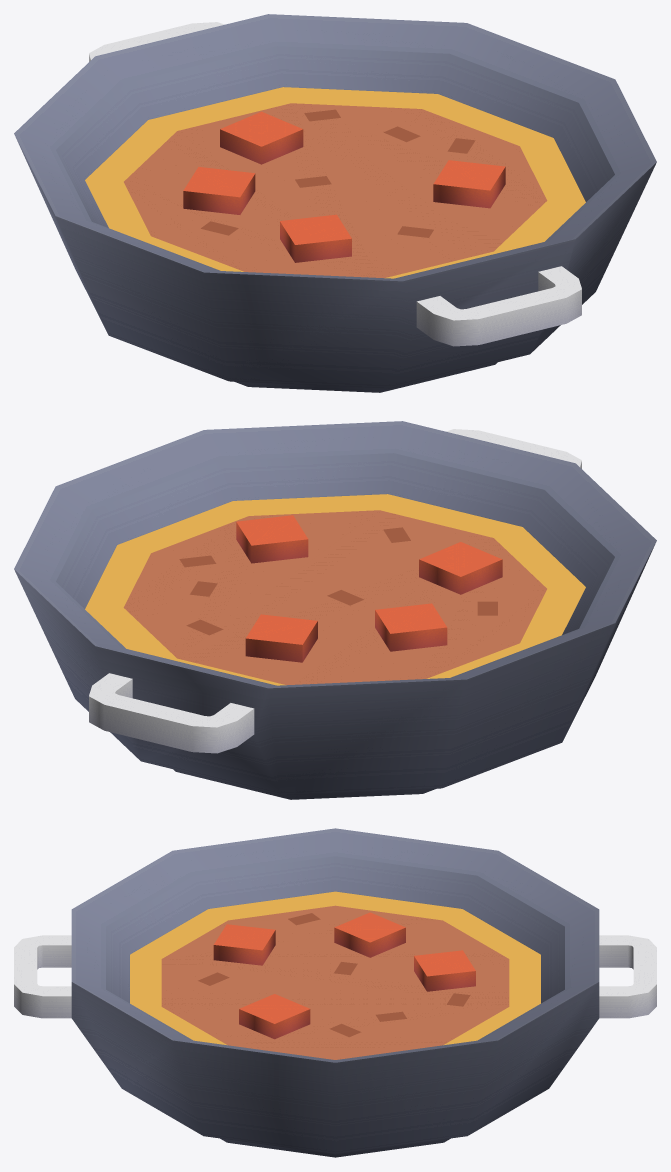
The model's file is pan-stew.glb.
3 renders of one model, top to bottom at view 1: azimuth 30°, elevation 25°; view 2: azimuth 150°, elevation 25°; view 3: azimuth 270°, elevation 25°, orthographic. The views are drawn at different scales.
Parts seen in each view (by area): view 1: pan-stew; view 2: pan-stew; view 3: pan-stew.
Boxes of the visible parts, box(x1,y1,x2,y2) form: pan-stew: box(14, 14, 656, 392); pan-stew: box(14, 421, 656, 799); pan-stew: box(14, 828, 656, 1157).
Size of the model in its own units: 0.6574 by 0.1753 by 0.7621.
Materials: 1 (1 with a texture image).
